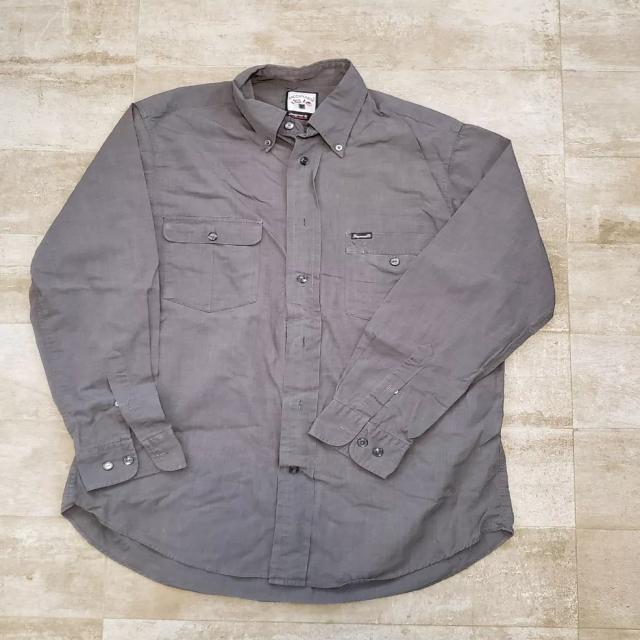long sleeve shirt: (26, 55, 559, 607)
